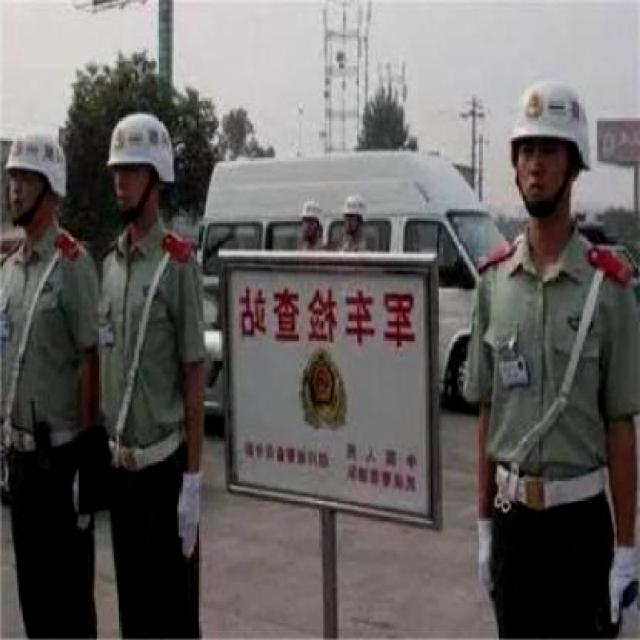face_nomask: (509, 140, 568, 214), (5, 174, 43, 229), (106, 168, 143, 210)
hand_glove: (606, 546, 639, 640), (175, 478, 208, 560), (474, 522, 495, 616)
head_helmet: (506, 89, 594, 154), (108, 108, 175, 170), (8, 129, 78, 183)
person: (470, 81, 637, 640), (88, 98, 209, 640), (0, 117, 94, 640)
